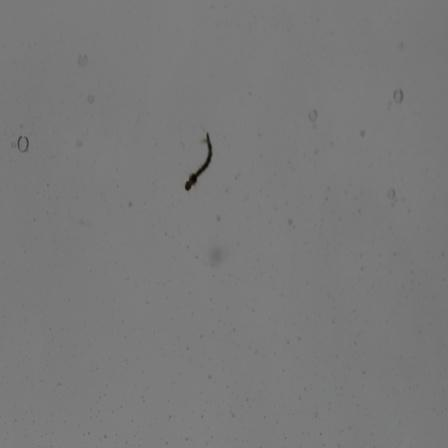Jentik-Nyamuk: (182, 130, 215, 193)
